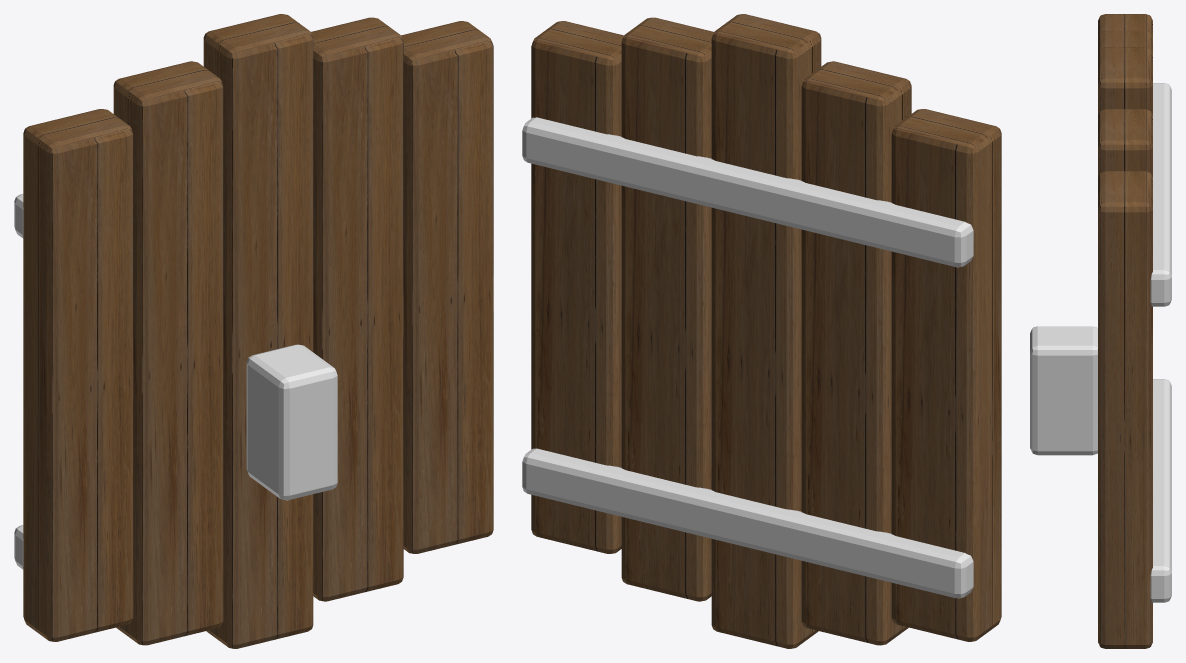
Rendered from wood_shield.glb.
The picture shows the model from 3 angles, left to right: view 1: azimuth 30°, elevation 25°; view 2: azimuth 150°, elevation 25°; view 3: azimuth 270°, elevation 25°; orthographic projection. The views are drawn at different scales.
Parts seen in each view (by area): view 1: ShieldBoard0, ShieldBoard1, ShieldBoard3, ShieldBoard2, ShieldBoard4, ShieldHandle; view 2: ShieldBoard0, ShieldBoard2, ShieldBoard1, ShieldBoard3, ShieldBoard4, ShieldBrace, ShieldBrace.001; view 3: ShieldBoard4, ShieldHandle, ShieldBrace, ShieldBrace.001, ShieldBoard2, ShieldBoard3, ShieldBoard1, ShieldBoard0.
Part boxes in pixels (<box>): ShieldBoard0: <box>23,109,133,641</box>; ShieldBoard1: <box>113,61,223,645</box>; ShieldBoard3: <box>311,17,403,601</box>; ShieldBoard2: <box>203,14,313,648</box>; ShieldBoard4: <box>401,21,493,553</box>; ShieldHandle: <box>246,344,337,500</box>; ShieldBoard0: <box>891,109,1001,641</box>; ShieldBoard2: <box>711,14,821,648</box>; ShieldBoard1: <box>801,61,911,645</box>; ShieldBoard3: <box>621,17,713,601</box>; ShieldBoard4: <box>531,21,623,553</box>; ShieldBrace: <box>522,448,973,598</box>; ShieldBrace.001: <box>522,117,973,267</box>; ShieldBoard4: <box>1098,171,1152,648</box>; ShieldHandle: <box>1030,326,1097,455</box>; ShieldBrace: <box>1150,379,1171,602</box>; ShieldBrace.001: <box>1150,83,1171,306</box>; ShieldBoard2: <box>1098,47,1152,115</box>; ShieldBoard3: <box>1098,109,1152,177</box>; ShieldBoard1: <box>1098,30,1152,52</box>; ShieldBoard0: <box>1098,14,1152,36</box>.
Size of the model in its own units: 0.916 by 1.18 by 0.2825.
2 materials, 1 textured.
